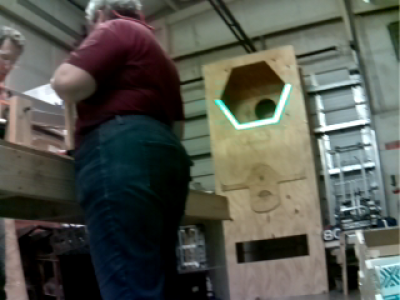target: (213, 83, 291, 130)
